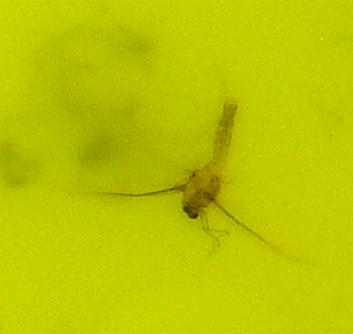Ephemeroptera: (100, 100, 253, 234)
